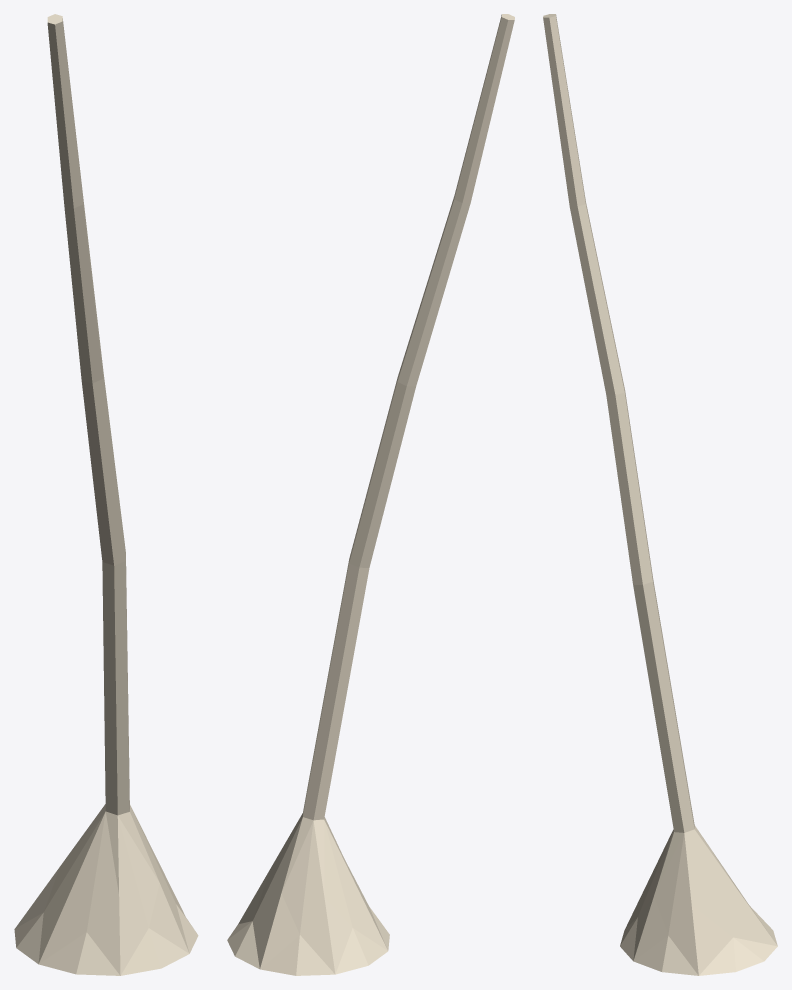
The model's file is Yucca1_branch.fbx.
The picture shows the model from 3 angles, left to right: view 1: azimuth 30°, elevation 25°; view 2: azimuth 150°, elevation 25°; view 3: azimuth 270°, elevation 25°; orthographic projection. The views are drawn at different scales.
Visible parts, largest first — view 1: Foliage022; view 2: Foliage022; view 3: Foliage022.
Boxes of the visible parts, x1,y1,x2,y2 form: Foliage022: [14, 14, 198, 975]; Foliage022: [227, 14, 514, 975]; Foliage022: [543, 14, 777, 975].
Size of the model in its own units: 53.12 by 229 by 55.91.
